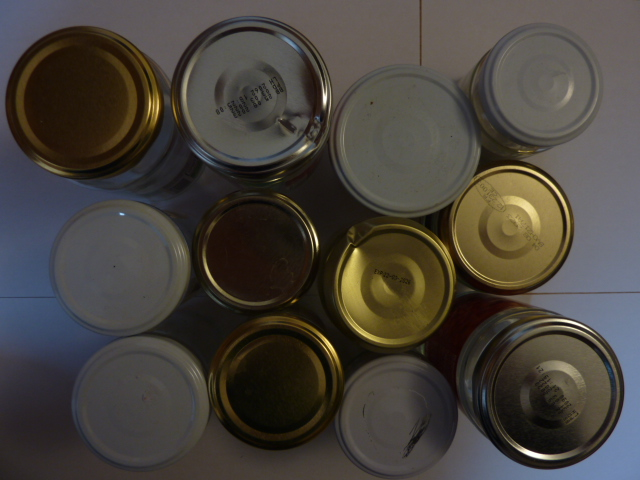damaged: (326, 219, 456, 347), (338, 354, 458, 477)
intact: (2, 25, 164, 179), (470, 316, 625, 471), (329, 64, 481, 212), (70, 337, 210, 471), (212, 318, 342, 450), (481, 22, 605, 146), (194, 193, 319, 308)
